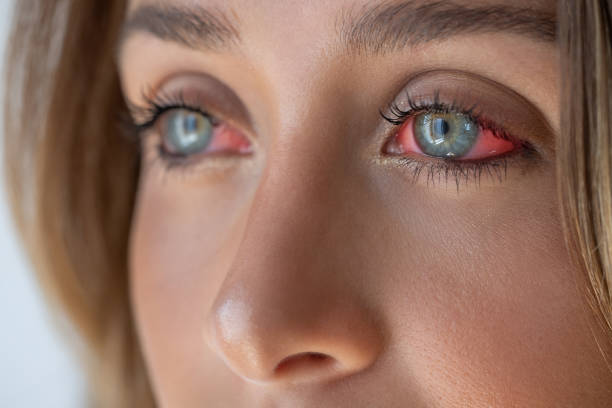blood: (396, 115, 515, 161), (207, 113, 251, 152)
